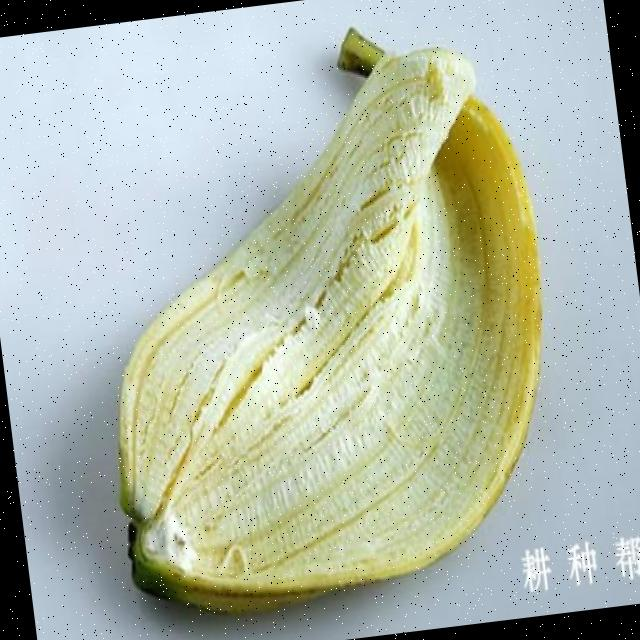banana-peel: (63, 6, 578, 628)
